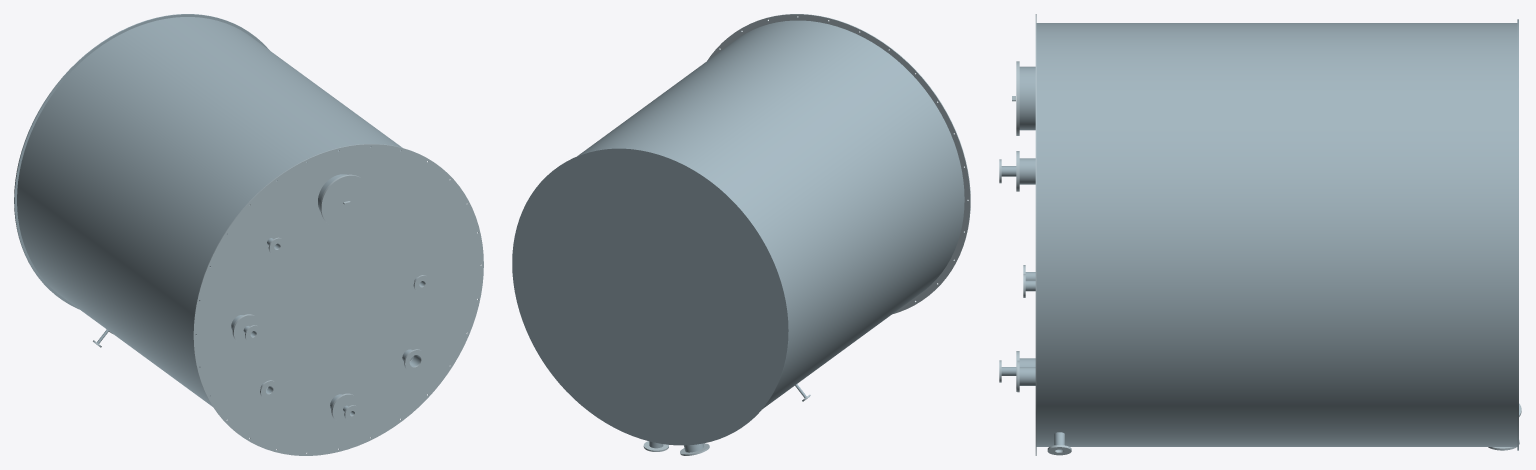
3 renders of one model, left to right at view 1: azimuth 30°, elevation 25°; view 2: azimuth 150°, elevation 25°; view 3: azimuth 270°, elevation 25°, orthographic. The views are drawn at different scales.
Parts seen in each view (by area): view 1: 本体_钢壳, 盖面_开孔盖板, 盖面_h盖, 本体_底板; view 2: 本体_钢壳, 本体_底板, 盖面_开孔盖板; view 3: 本体_钢壳, 接口_h接管, 盖面_开孔盖板, 本体_底板.
Part boxes in pixels (x1=…): 本体_钢壳: x1=17, y1=17, x2=413, y2=406; 盖面_开孔盖板: x1=193, y1=144, x2=483, y2=455; 盖面_h盖: x1=321, y1=175, x2=370, y2=228; 本体_底板: x1=14, y1=14, x2=269, y2=309; 本体_钢壳: x1=578, y1=20, x2=964, y2=409; 本体_底板: x1=512, y1=148, x2=788, y2=445; 盖面_开孔盖板: x1=707, y1=14, x2=970, y2=314; 本体_钢壳: x1=1036, y1=23, x2=1517, y2=446; 接口_h接管: x1=1019, y1=66, x2=1035, y2=130; 盖面_开孔盖板: x1=1035, y1=14, x2=1036, y2=455; 本体_底板: x1=1517, y1=19, x2=1518, y2=450.
Bounding box in the file's own units: 3.67 × 3.75 × 4.33.
